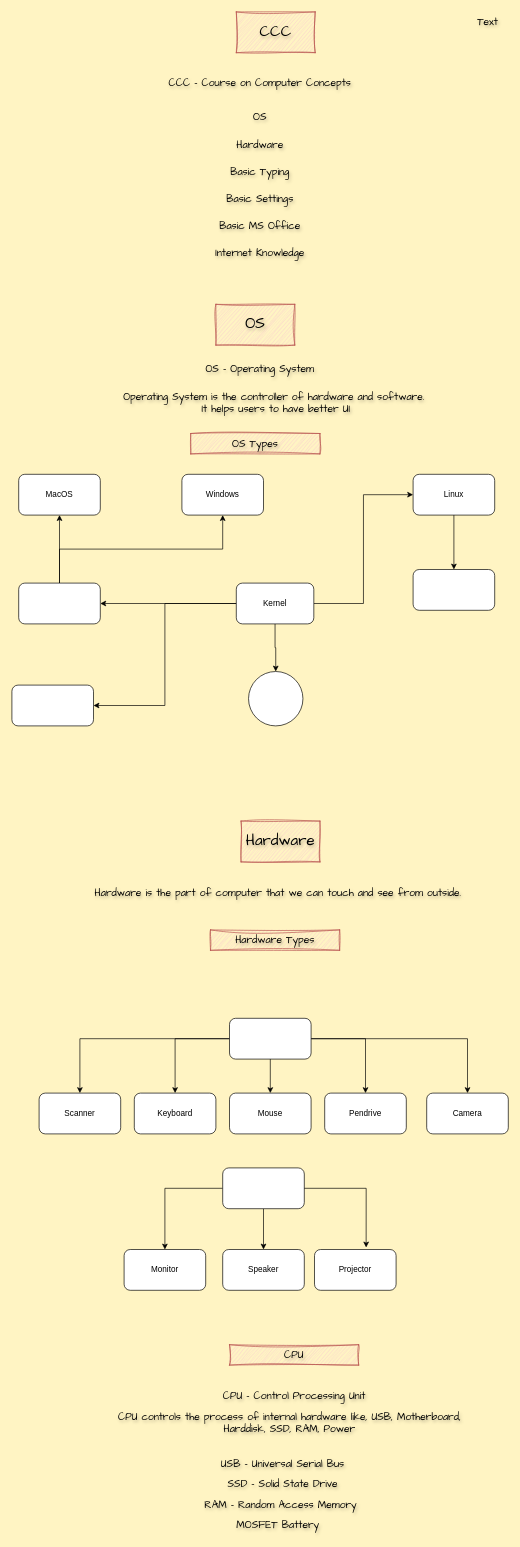
Image size: 520x1547. Some labels were removed from this diagram. Here are the shapes that lost their labels. From the top down, the centre of each, then its label:
point (59, 603): Unix
point (453, 589): Ubuntu
point (52, 705): Android
point (275, 698): It runs the program in OS
point (270, 1038): Input Devices
point (263, 1188): Output Device
